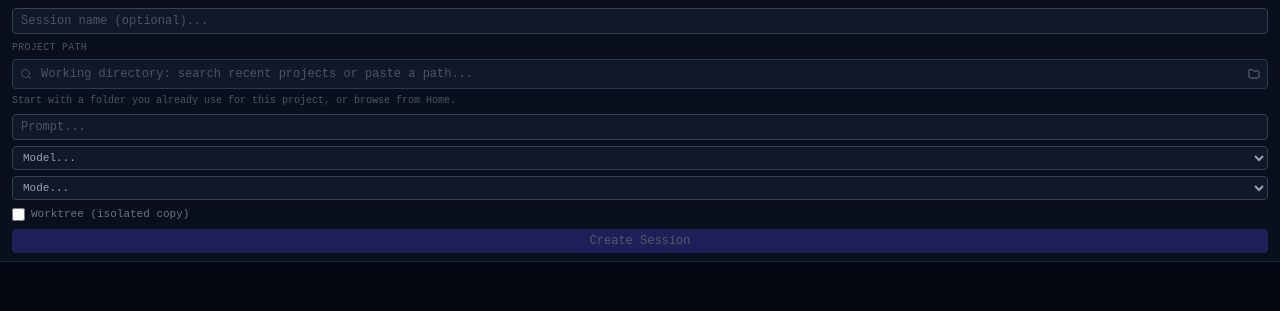
Test case: NewSessionForm — submit › shows an inline error message when the server returns non-OK
Type "/tmp/proj" into the dropdown with placeholder "Working directory".
click(640, 74); type("/tmp/proj")  # box [12,59,1268,89]
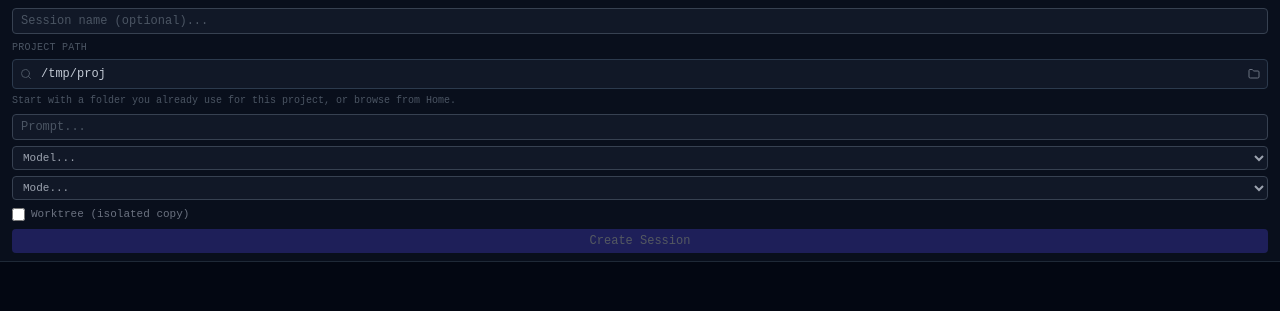
Type "hi" into the field with placeholder "Prompt...".
click(640, 127); type("hi")  # box [12,114,1268,140]
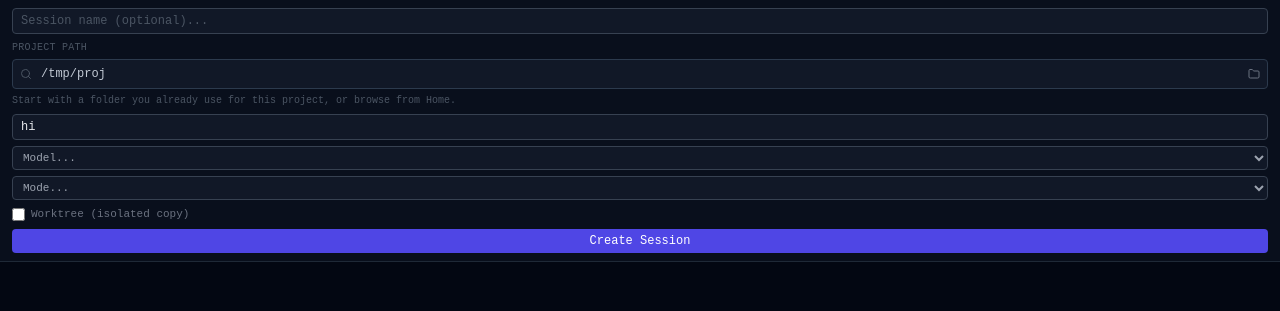
Click the button "Create Session".
click(640, 240)  # box [12,228,1268,252]
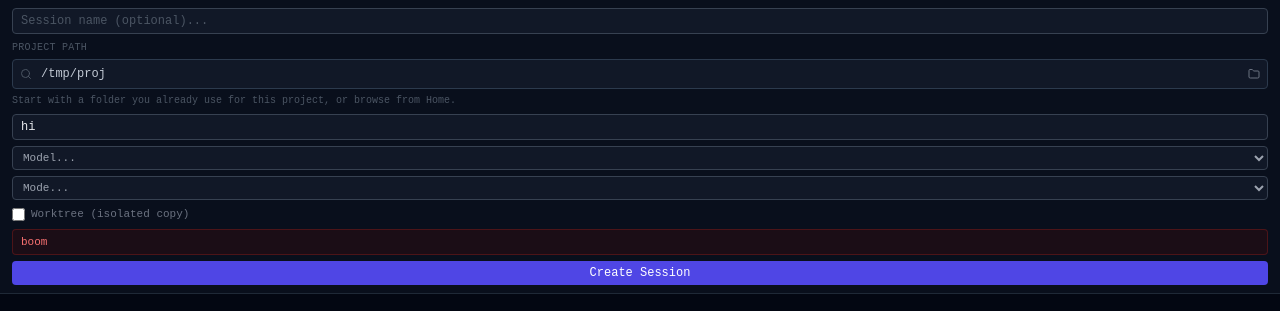
Check: the text "boom" is shown, box [21,236,47,248]
